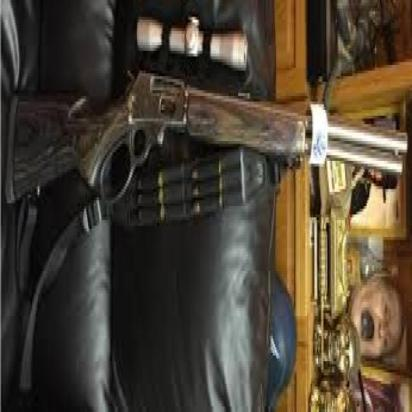Gun: (3, 74, 410, 211)
